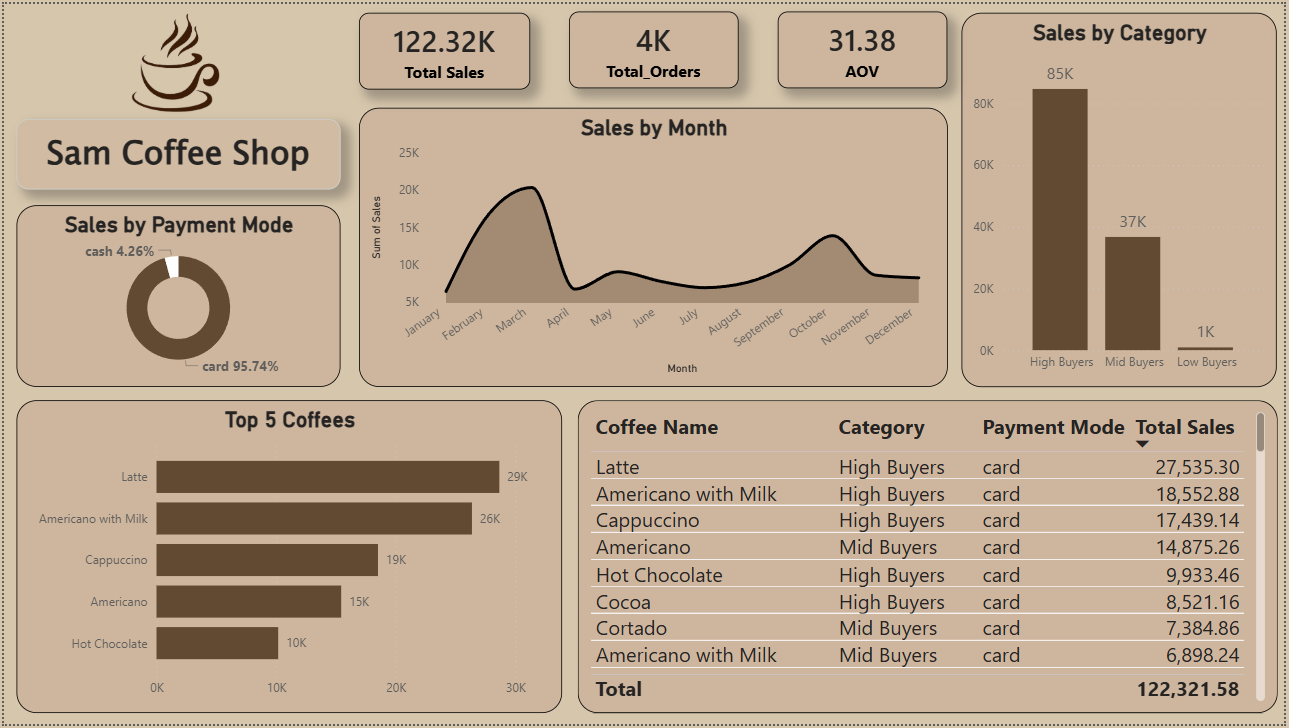

The dashboard page shown, as its layout file describes it:
{"tool":"powerbi","page":{"name":"Page 1","canvas":[1280,720],"ordinal":0},"visuals":[{"type":"textbox","box":[12.6,115,323.9,70.1],"z":0},{"type":"lineChart","title":"Sales by Month","fields":{"Y":["Sum(Coffee Sales.Sales)"],"Category":["Coffee Sales.date.Variation.Date Hierarchy.Month"]},"box":[354.8,103.8,589,279.1],"z":2000},{"type":"donutChart","title":"Sales by Payment Mode","fields":{"Y":["Sum(Coffee Sales.Sales)"],"Category":["Coffee Sales.cash_type"]},"box":[12.5,201.2,323.8,181.2],"z":3000},{"type":"columnChart","title":"Sales by Category","fields":{"Y":["Sum(Coffee Sales.Sales)"],"Category":["Coffee Sales.category"]},"box":[957.8,8.4,315.5,374.4],"z":4000},{"type":"barChart","title":"Top 5 Coffees","fields":{"Y":["Sum(Coffee Sales.Sales)"],"Category":["Coffee Sales.coffee_name"]},"box":[12.6,396.8,545.5,312.7],"z":5000},{"type":"tableEx","fields":{"Values":["Coffee Sales.coffee_name","Coffee Sales.category","Coffee Sales.cash_type","Sum(Coffee Sales.Sales)"]},"box":[573.5,396.8,699.7,312.7],"z":6000},{"type":"image","box":[98.9,0,150.2,127.5],"z":7000},{"type":"cardVisual","fields":{"Data":["Sum(Coffee Sales.Sales)"]},"box":[354.8,8.4,171.1,77.1],"z":8000},{"type":"cardVisual","fields":{"Data":["Coffee Sales.Total_Orders"]},"box":[565.1,7,169.7,77.1],"z":8001},{"type":"cardVisual","fields":{"Data":["Coffee Sales.AOV"]},"box":[774.1,7,169.7,77.1],"z":8002}]}

Visuals, with their boxes in screenshot pixels (x1, y1, x2, y2), scaled from the page's 1280x720 canvas onto the 1289x728 screenshot:
textbox: 13, 116, 339, 187
"Sales by Month" lineChart: 357, 105, 950, 387
"Sales by Payment Mode" donutChart: 13, 203, 339, 387
"Sales by Category" columnChart: 965, 8, 1282, 387
"Top 5 Coffees" barChart: 13, 401, 562, 717
tableEx - Coffee Sales.coffee_name x Coffee Sales.category: 578, 401, 1282, 717
image: 100, 0, 251, 129
cardVisual - Sum(Coffee Sales.Sales): 357, 8, 530, 86
cardVisual - Coffee Sales.Total_Orders: 569, 7, 740, 85
cardVisual - Coffee Sales.AOV: 780, 7, 950, 85
